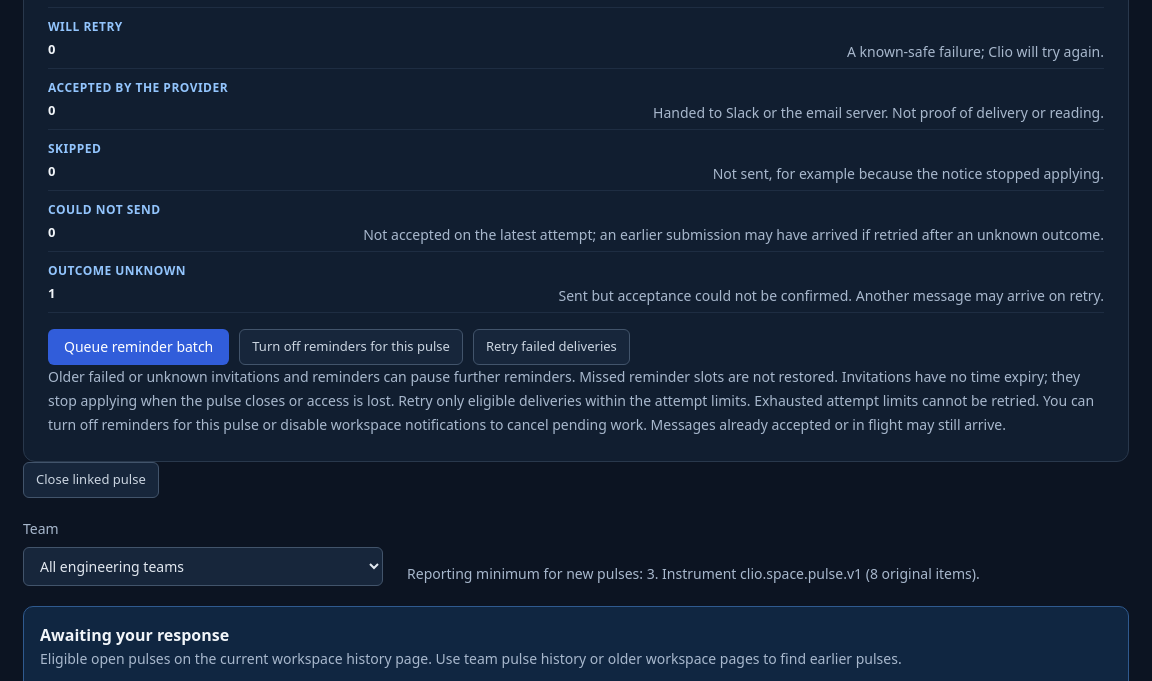
Scenario: owner aggregate delivery controls › keeps failed help honest after an owner-confirmed uncertain retry is refused
The image size is (1152, 681).
(page scrolled)
Click the button "Retry failed deliveries". click: (551, 347)
box: [473,329,630,365]
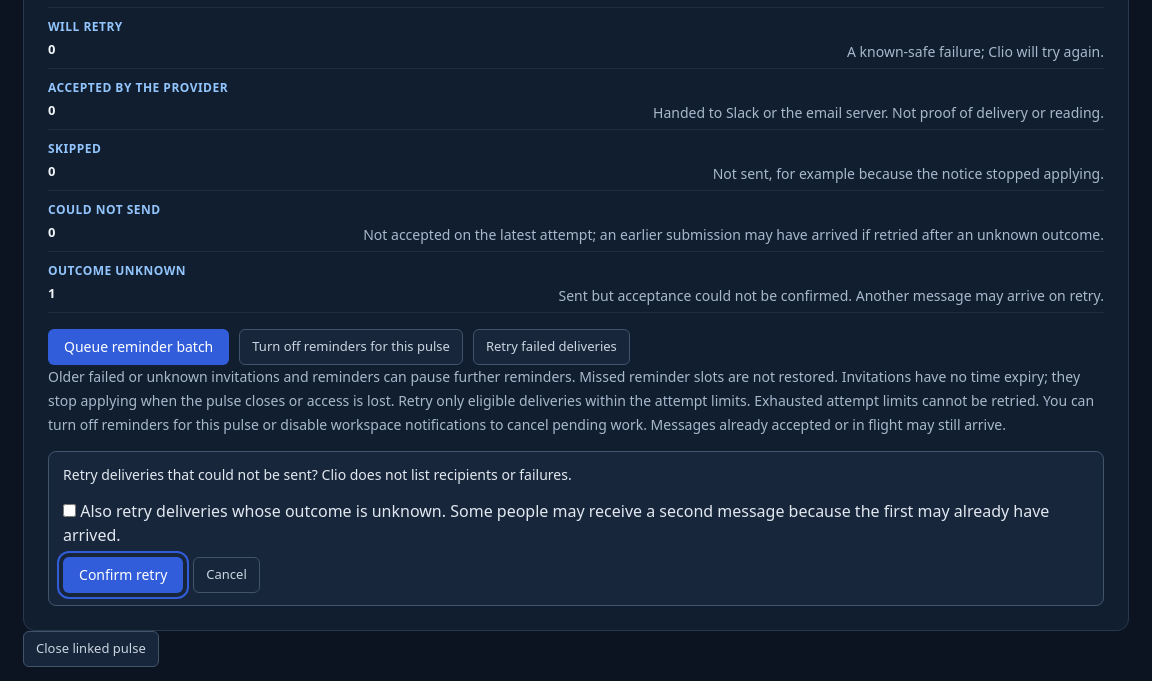
Click the checkbox labelled "outcome is unknown". click: (70, 510)
box: [63,504,76,517]
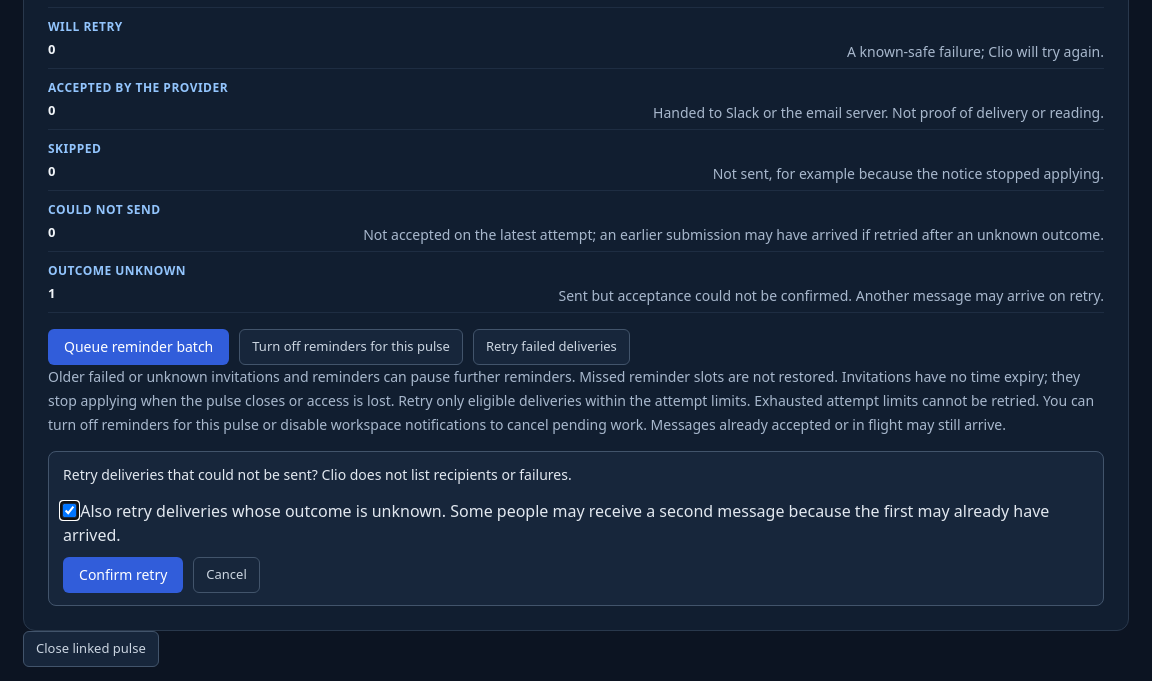
Click the button "Confirm retry". click: (123, 575)
box: [63,557,183,593]
(page scrolled)
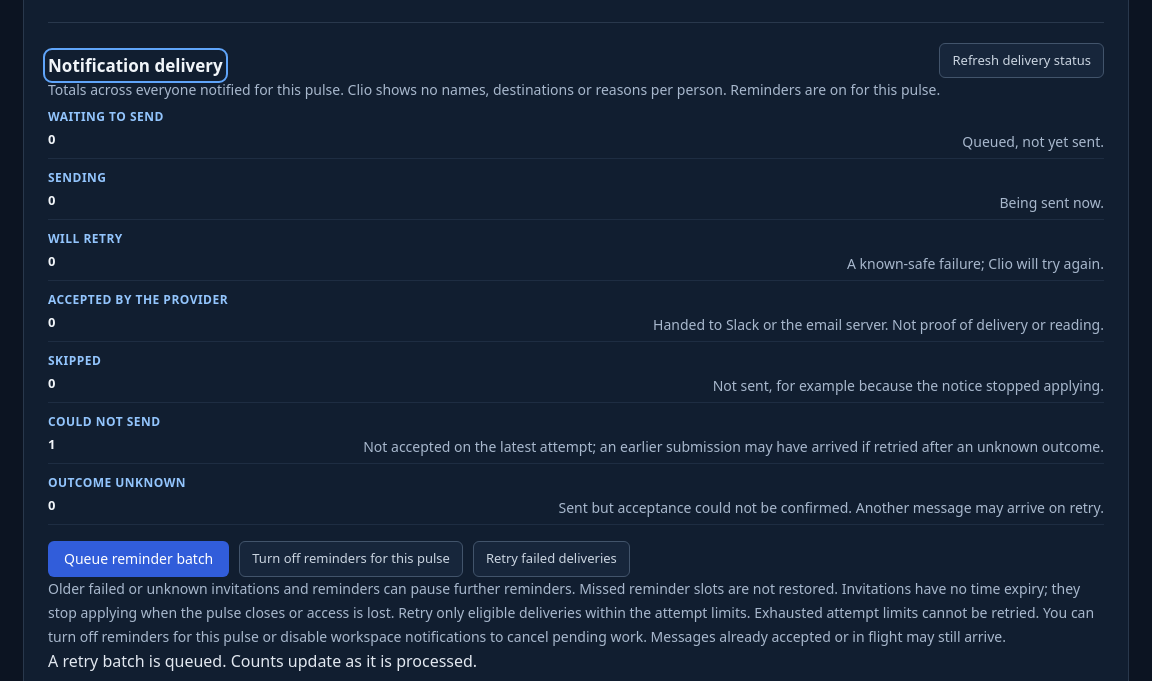
expect the text "Could not send" shows "Not accepted on the latest attempt": met, box [363,437,1104,456]
expect the text "A retry batch is queued. Counts update as it is processed." is shown: met, box [48,650,477,672]
expect the text "Could not send" shows "1": met, box [48,435,55,453]
